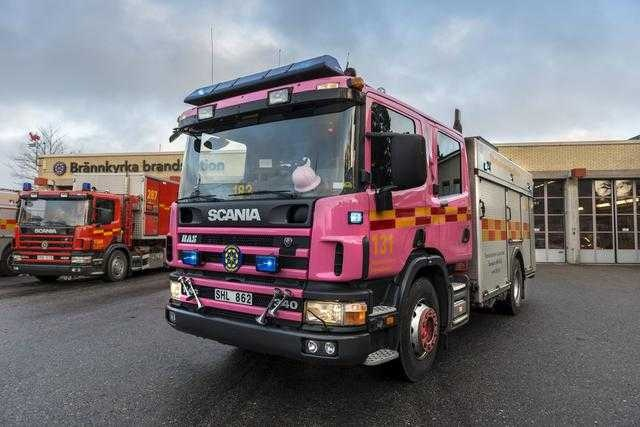Fire Truck: (152, 65, 557, 354), (11, 152, 207, 292)
